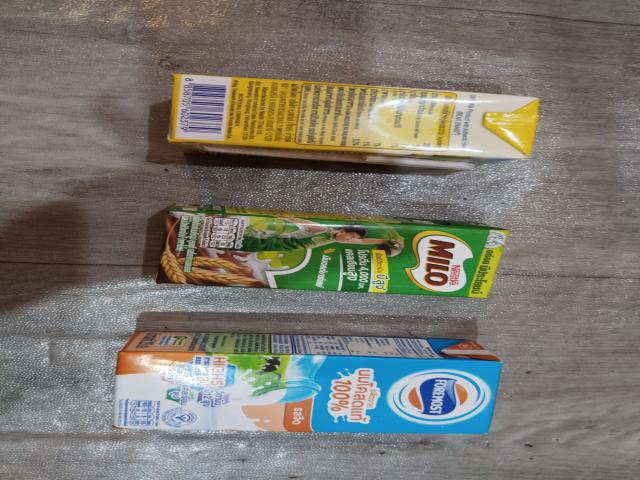drink_box: (103, 329, 520, 440), (149, 69, 545, 174), (149, 199, 518, 307)
